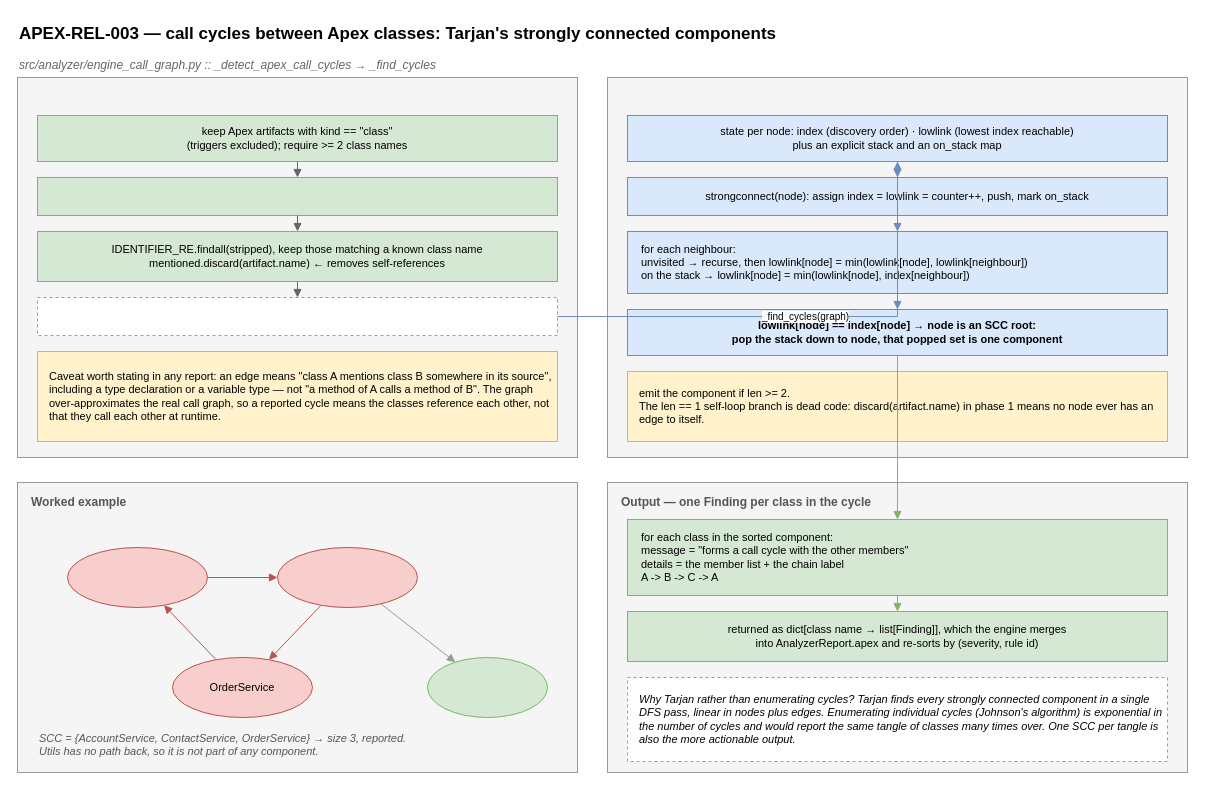
Some shapes in this 1205 by 790 pixel diagram are drawn without their labels. Here are the shapes that lost their labels. From the top down, the box of each, then its label:
(36, 176, 558, 216): _strip_comments_and_strings(artifact.body)
(16, 76, 578, 458): Phase 1 — build the graph (a heuristic over-approximation)
(606, 76, 1188, 458): Phase 2 — Tarjan SCC: one depth-first pass, O(V + E)
(36, 296, 558, 336): graph: dict[str, set[str]] — ClassName → {referenced ClassName}
(66, 546, 208, 608): AccountService
(276, 546, 418, 608): ContactService
(426, 656, 548, 718): Utils
